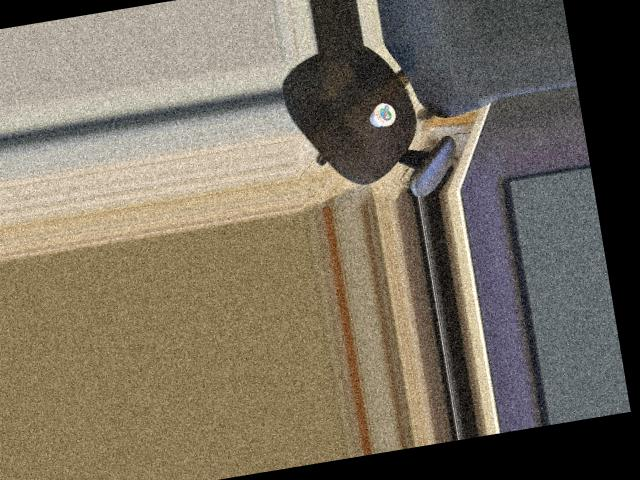cotage: (361, 96, 398, 130)
